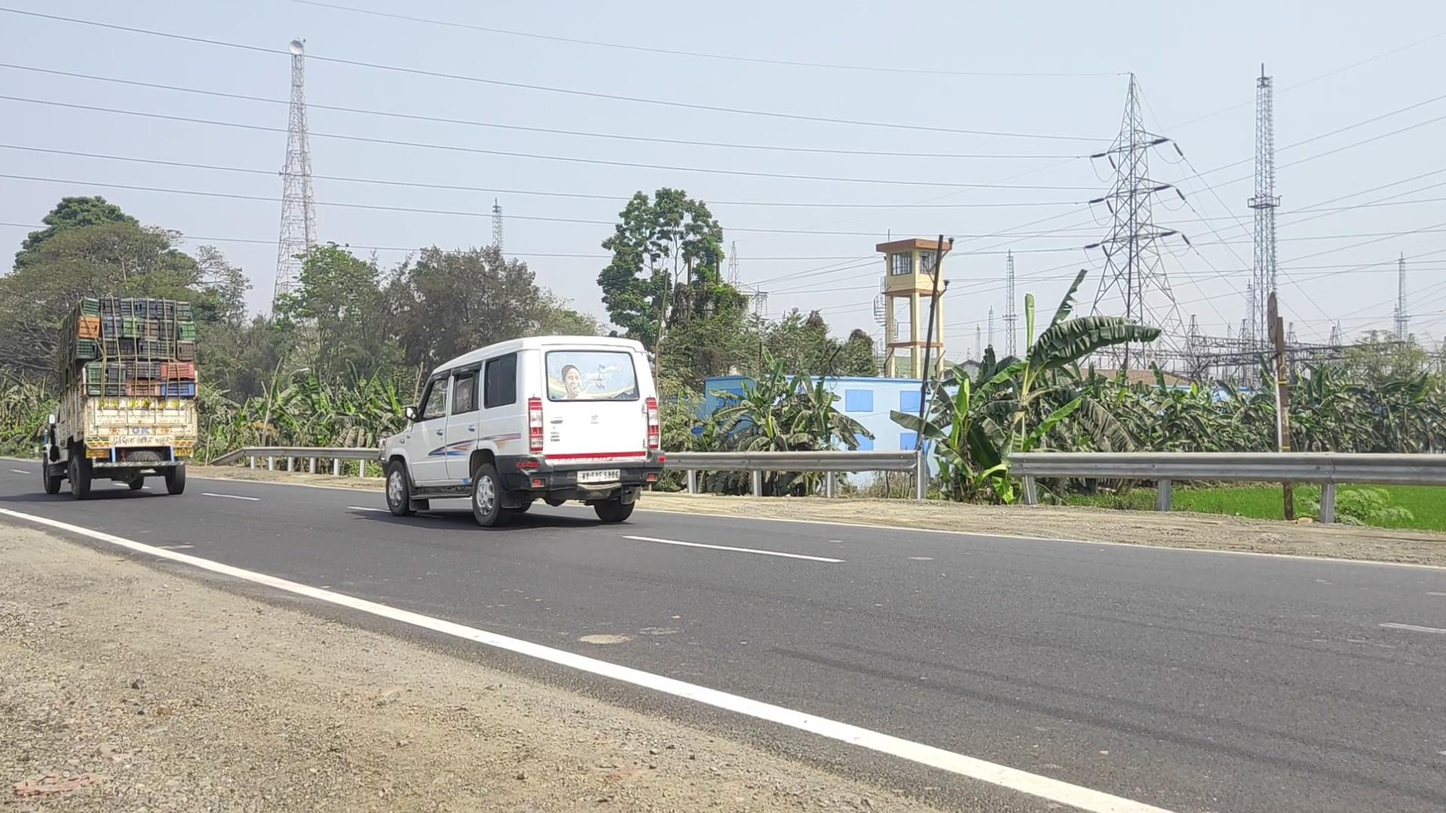car: (377, 335, 665, 528)
van: (42, 297, 197, 500)
